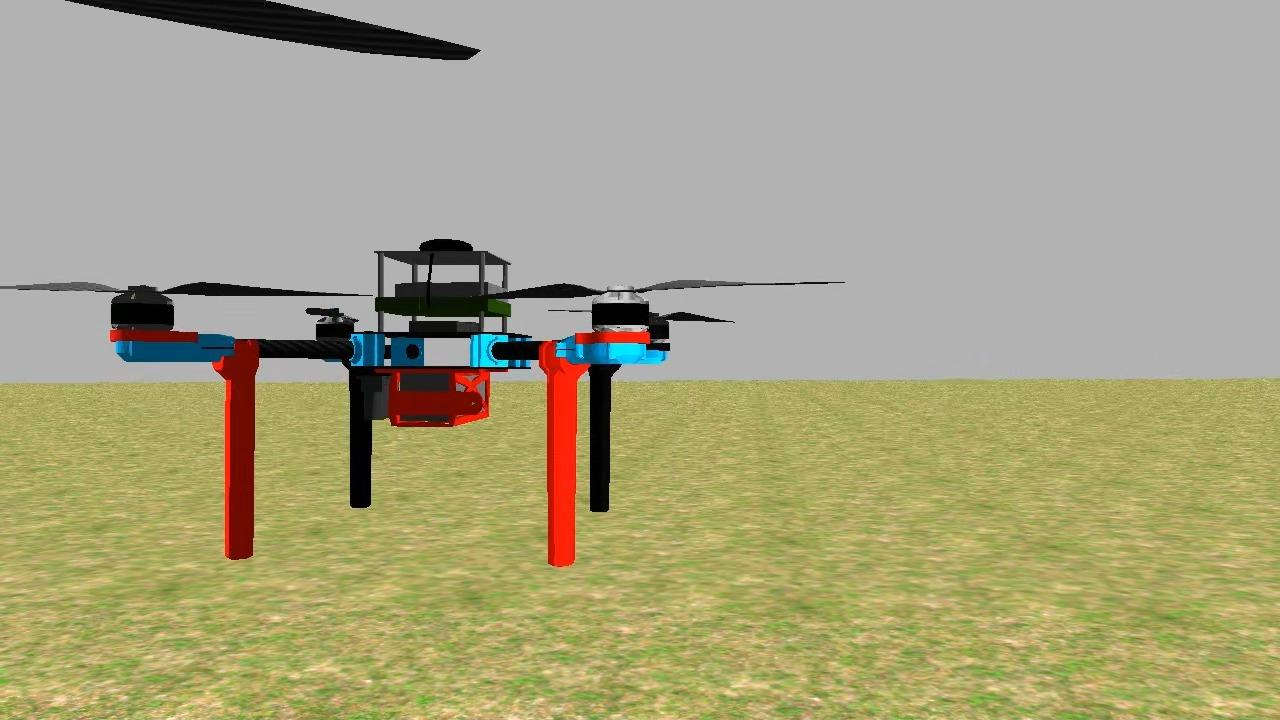UAV: (102, 234, 685, 574)
